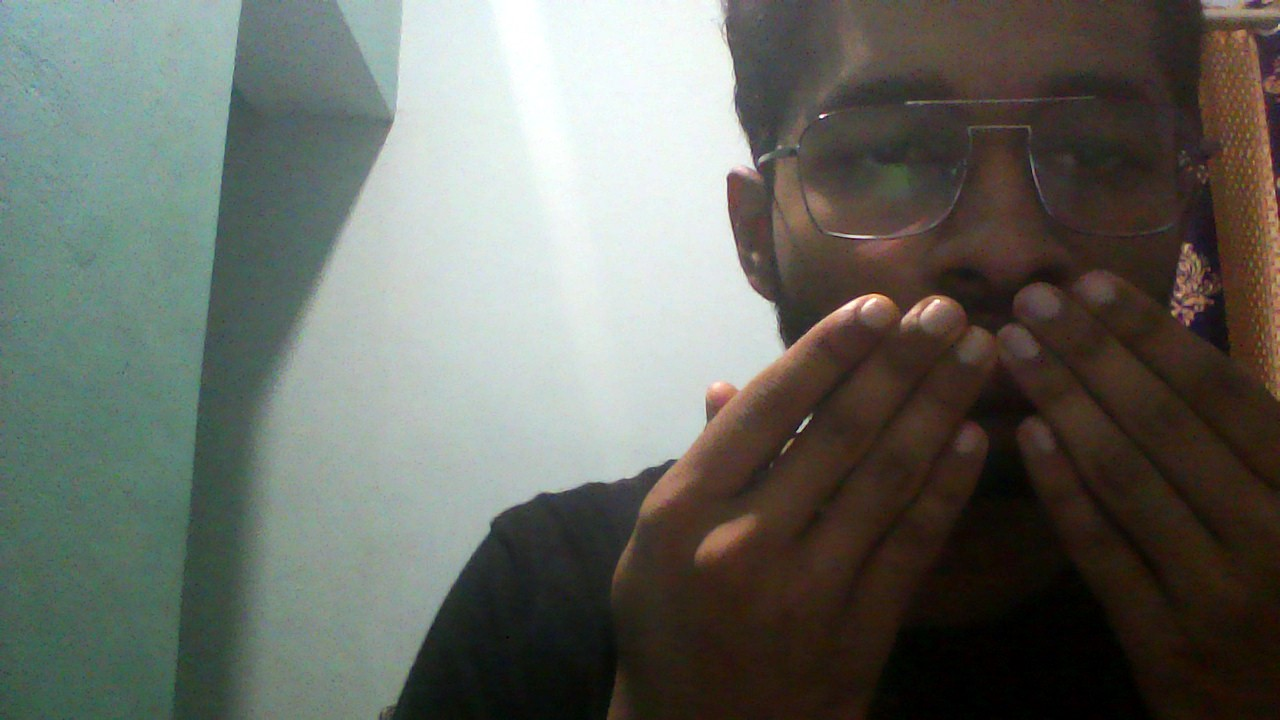Thanks: (599, 259, 1280, 720)
